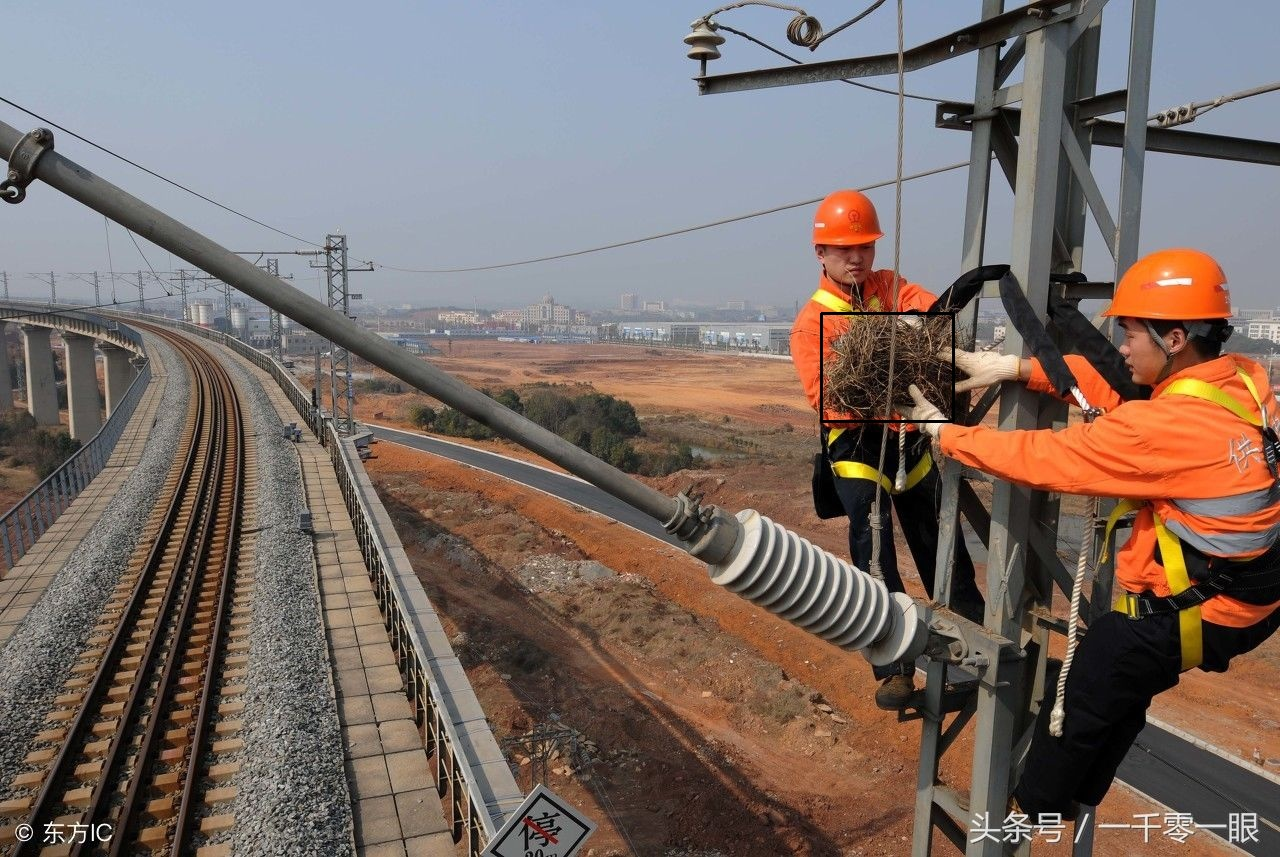bird-nest: (821, 313, 953, 421)
